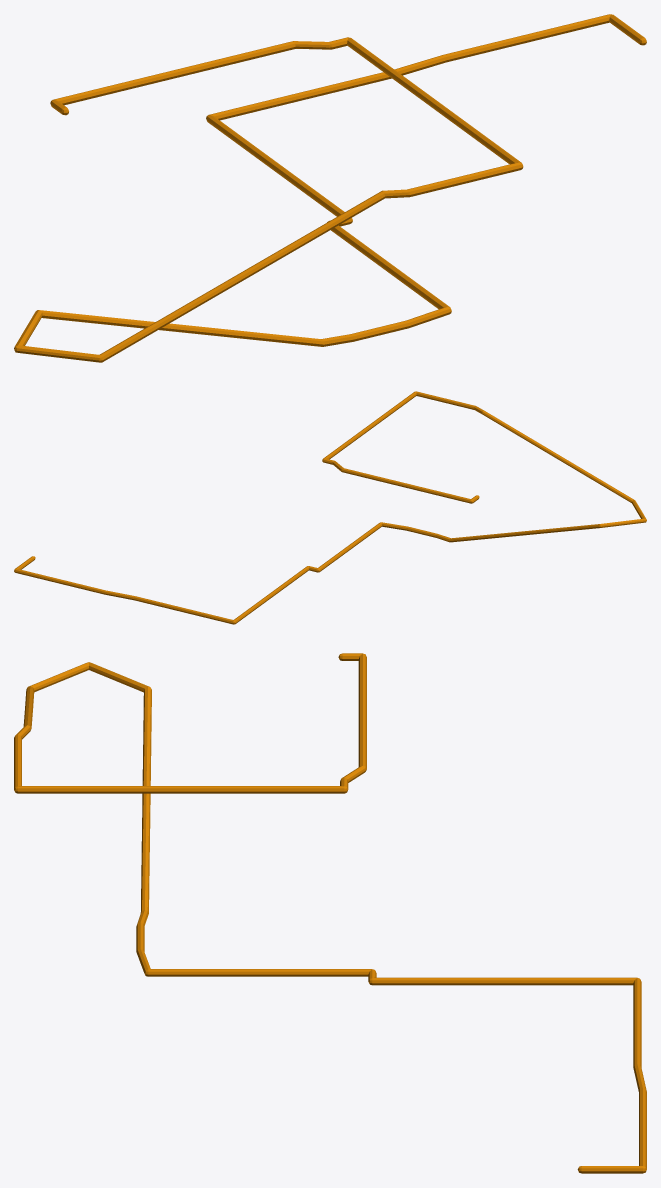
The picture shows the model from 3 angles, top to bottom: view 1: azimuth 30°, elevation 25°; view 2: azimuth 150°, elevation 25°; view 3: azimuth 270°, elevation 25°; orthographic projection. The views are drawn at different scales.
Bounding box in the file's own units: 2408 × 520 × 1553.
